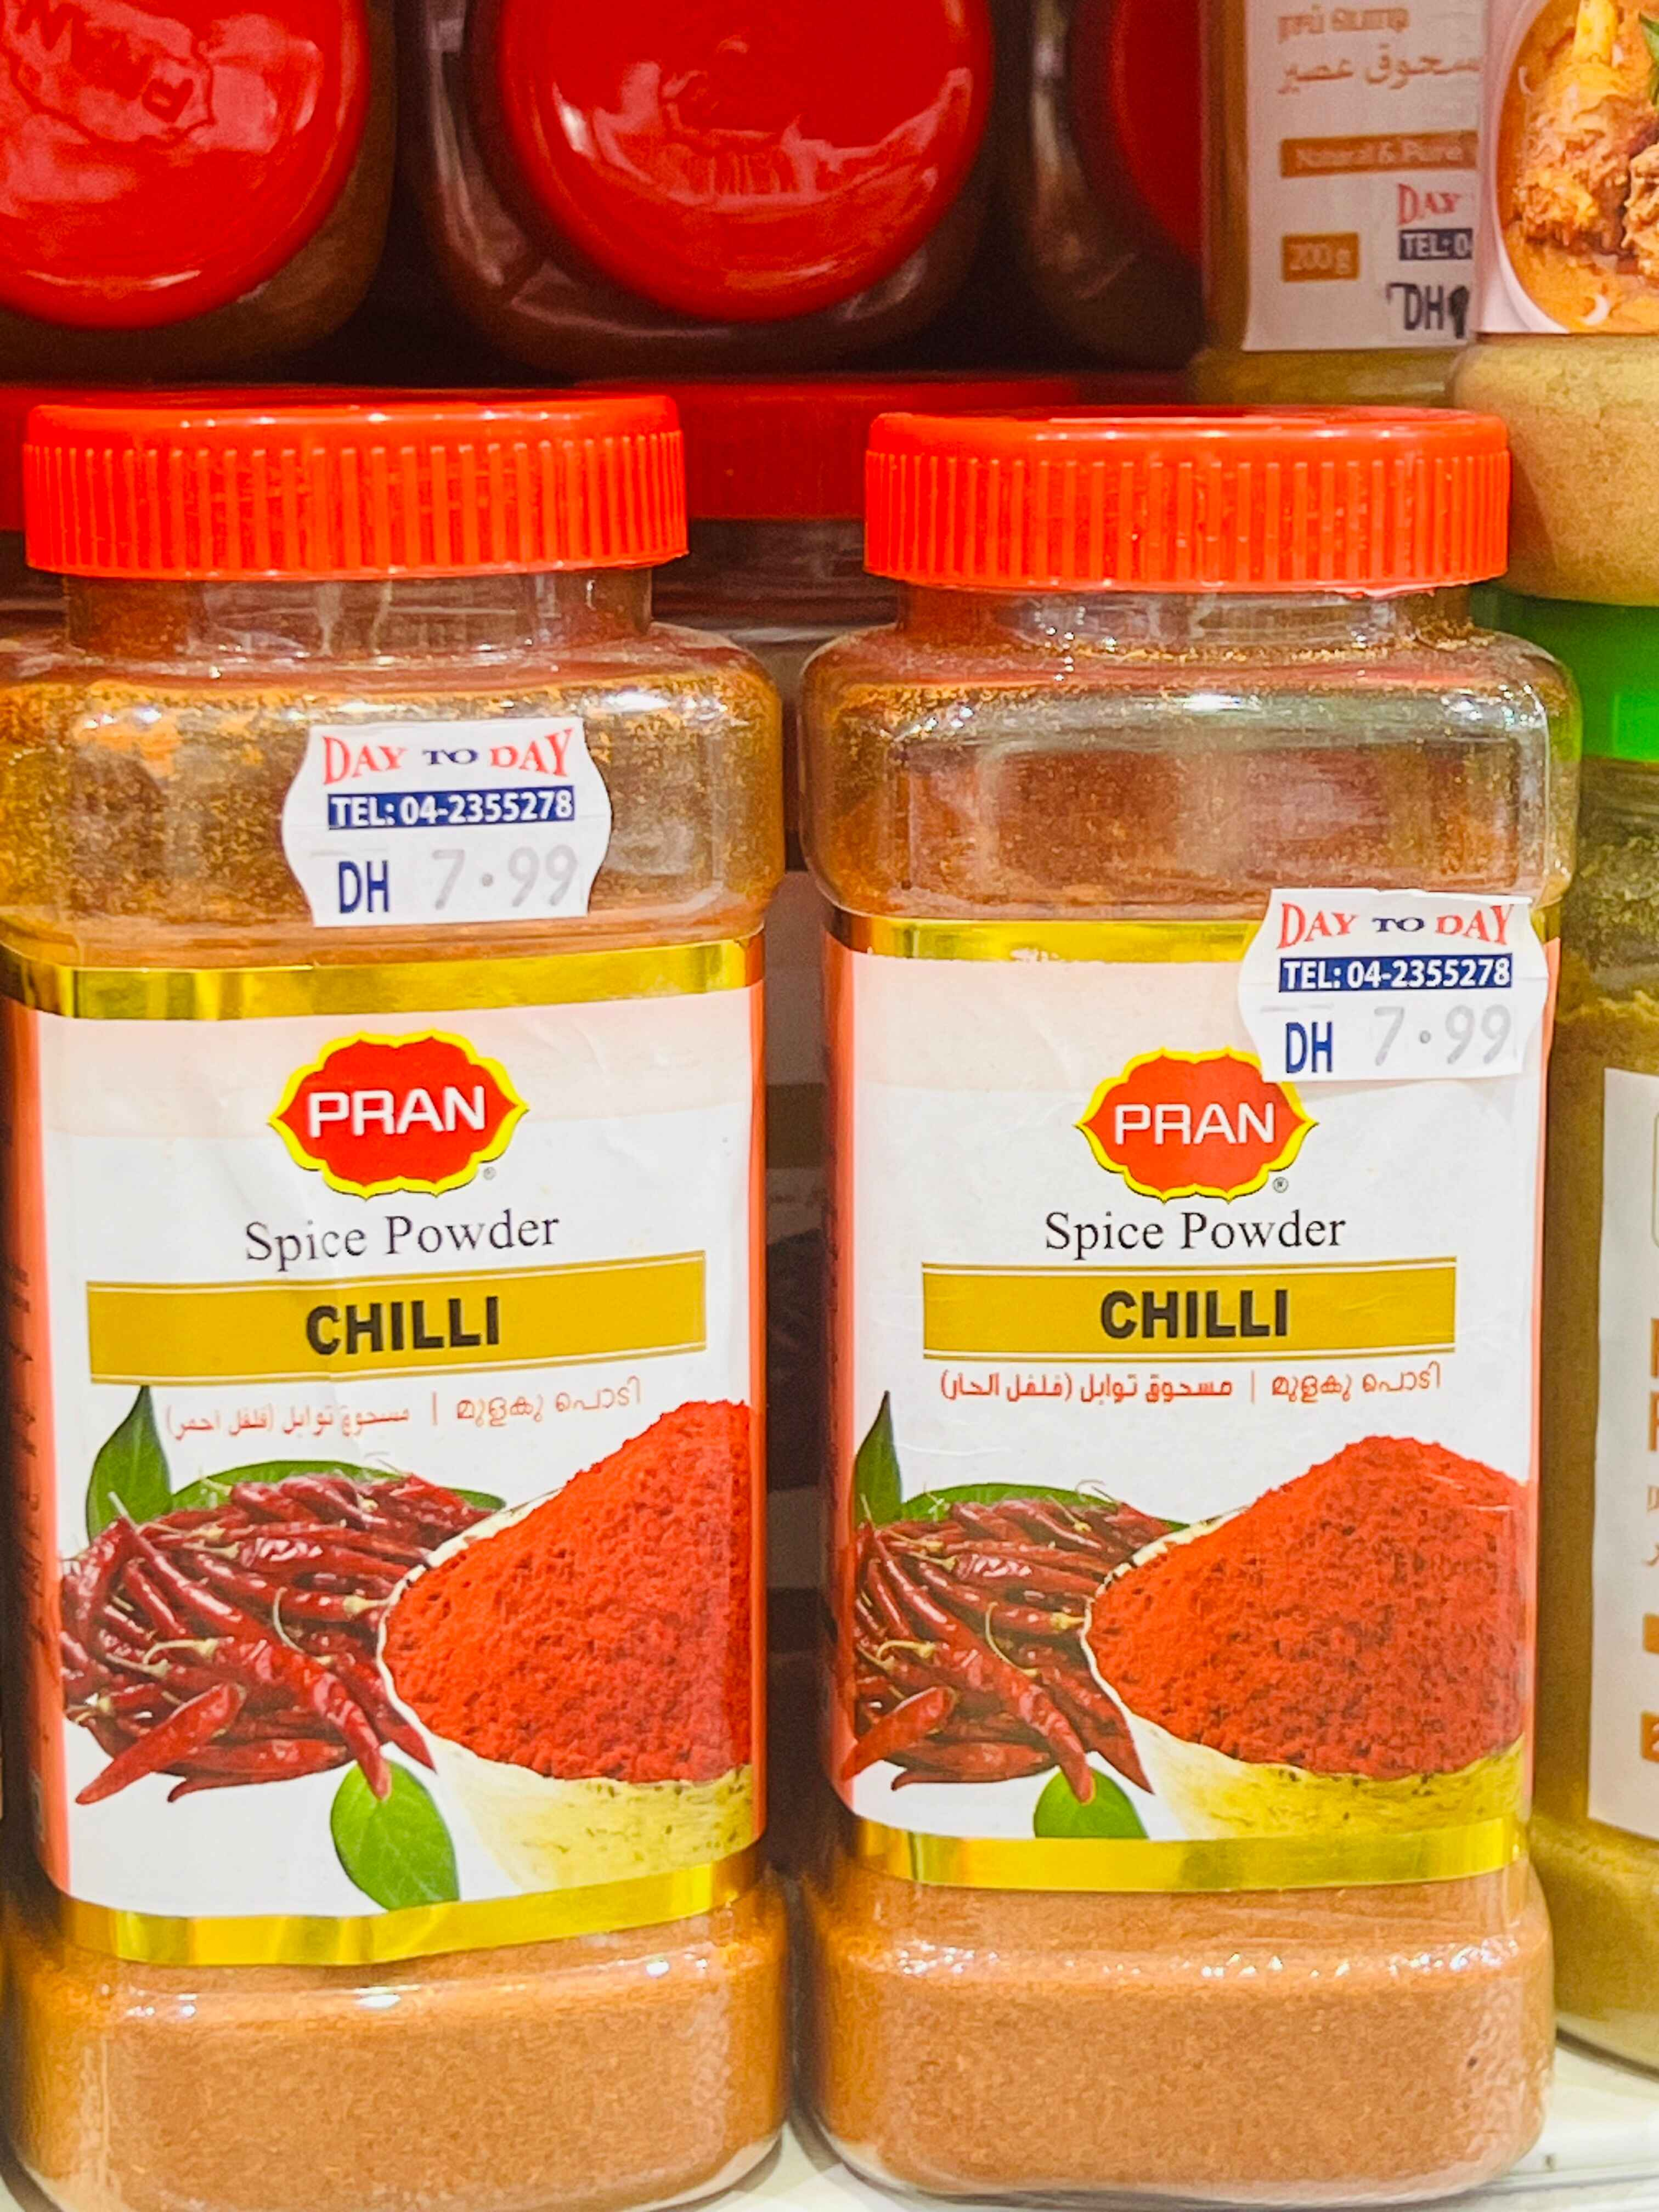PriceTagSmall: (282, 723, 612, 932), (1243, 880, 1547, 1085), (1366, 176, 1480, 338)
